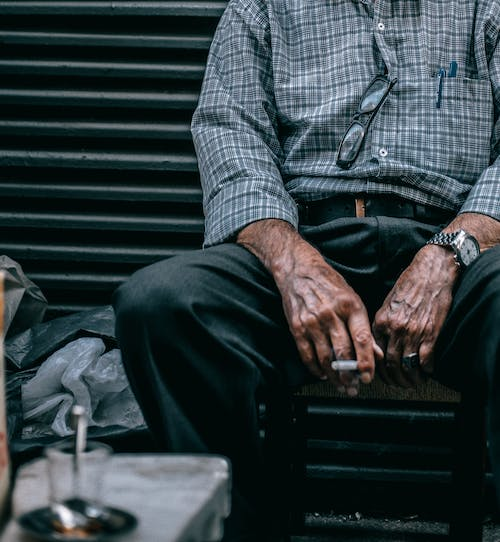cigarette: (328, 358, 359, 372)
